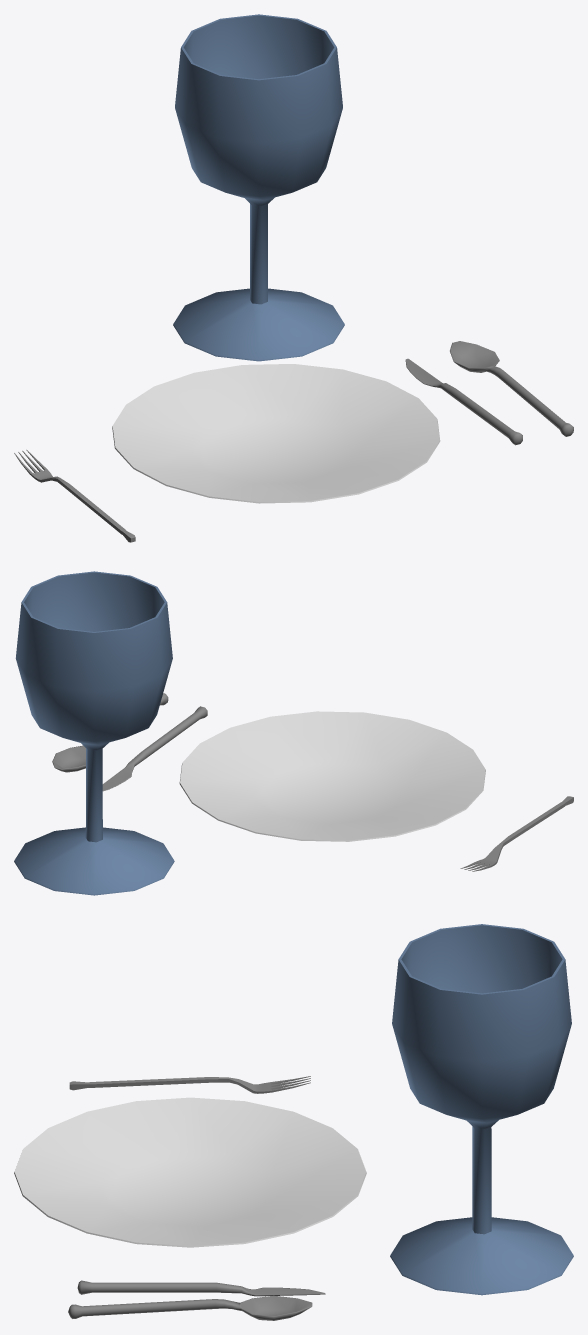
Rendered from XCCJ001.FBX.
3 renders of one model, top to bottom at view 1: azimuth 30°, elevation 25°; view 2: azimuth 150°, elevation 25°; view 3: azimuth 270°, elevation 25°, orthographic. The views are drawn at different scales.
Visible parts, largest first — view 1: XCCJ001; view 2: XCCJ001; view 3: XCCJ001.
Part boxes in pixels (bbox=[...]): XCCJ001: bbox=[14, 14, 573, 542]; XCCJ001: bbox=[14, 571, 573, 895]; XCCJ001: bbox=[14, 924, 573, 1320].
Bounding box in the file's own units: 1084 × 618 × 1056.
